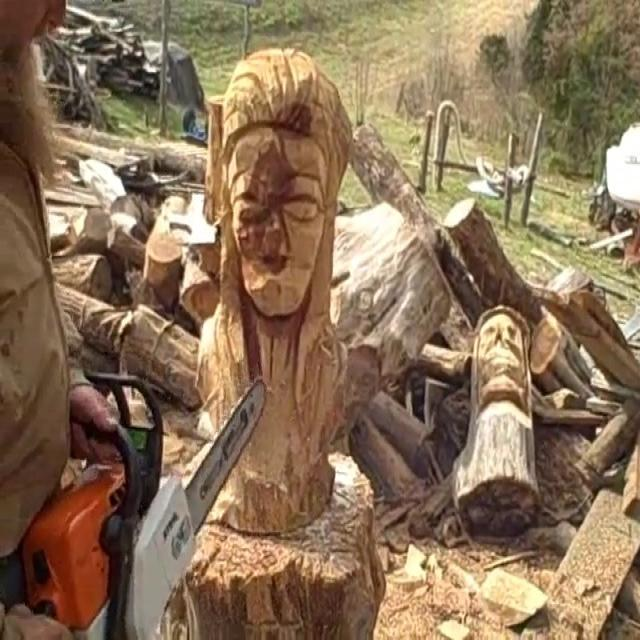Chainsaw: (7, 356, 279, 640)
